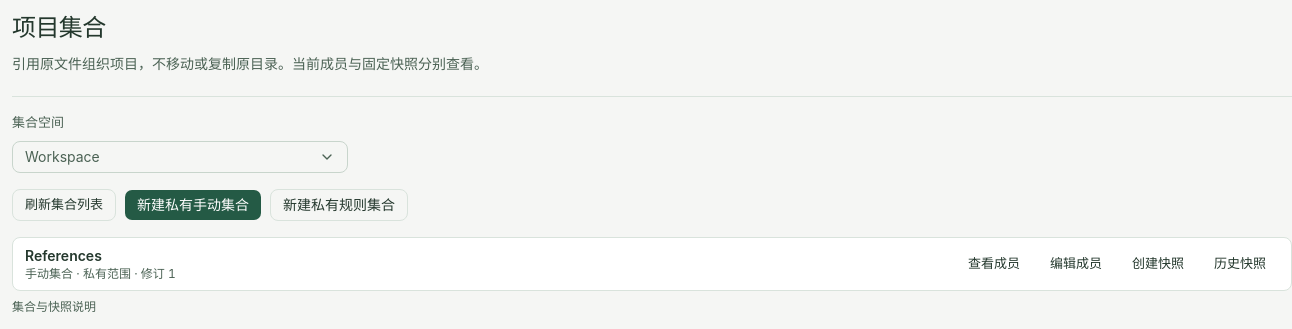
member revocation clears list and blocks refresh
The width and height of the screenshot is (1292, 329).
Step 1. Click the button with aria-label "查看集合 References" → (994, 264), box [955,248,1033,280]
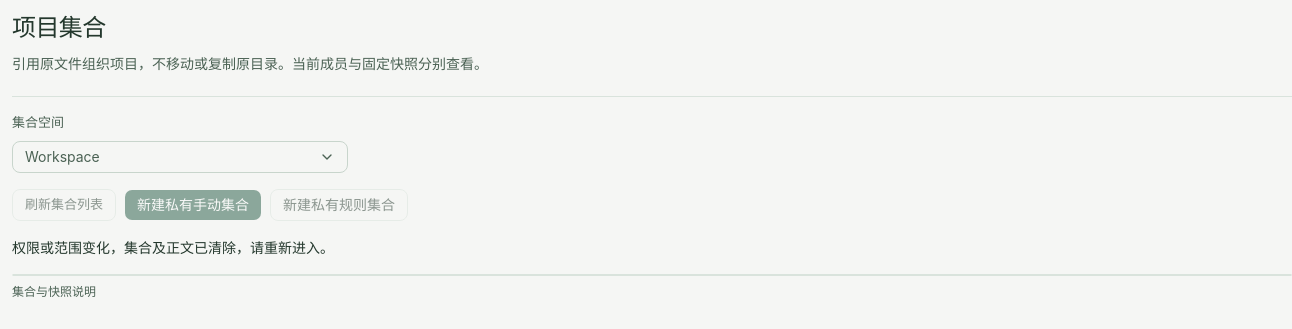
expect the text "权限或范围变化，集合及正文已清除，请重新进入。" is shown: met, box [12,238,334,256]
expect the list item "References 手动集合 · 私有范围 · 修订 1 查看成员 编辑成员 创建快照 历史快照" is gone: met
expect the button "刷新集合列表" is disabled: met, box [12,188,116,220]
